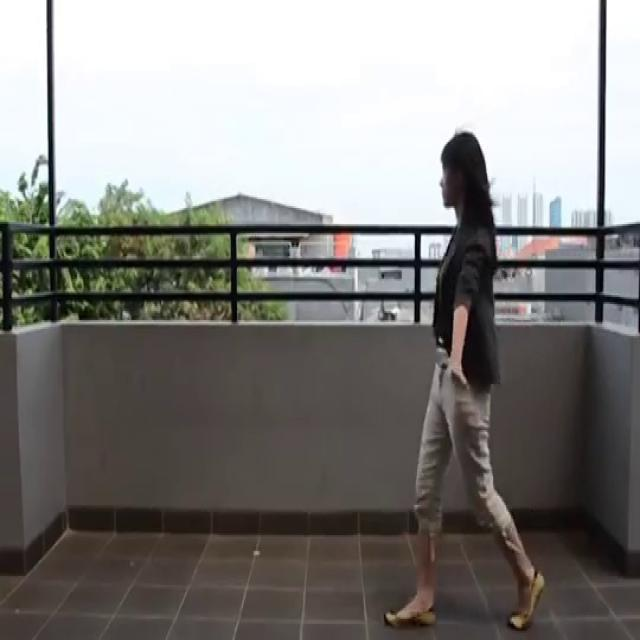normal: (381, 121, 551, 636)
